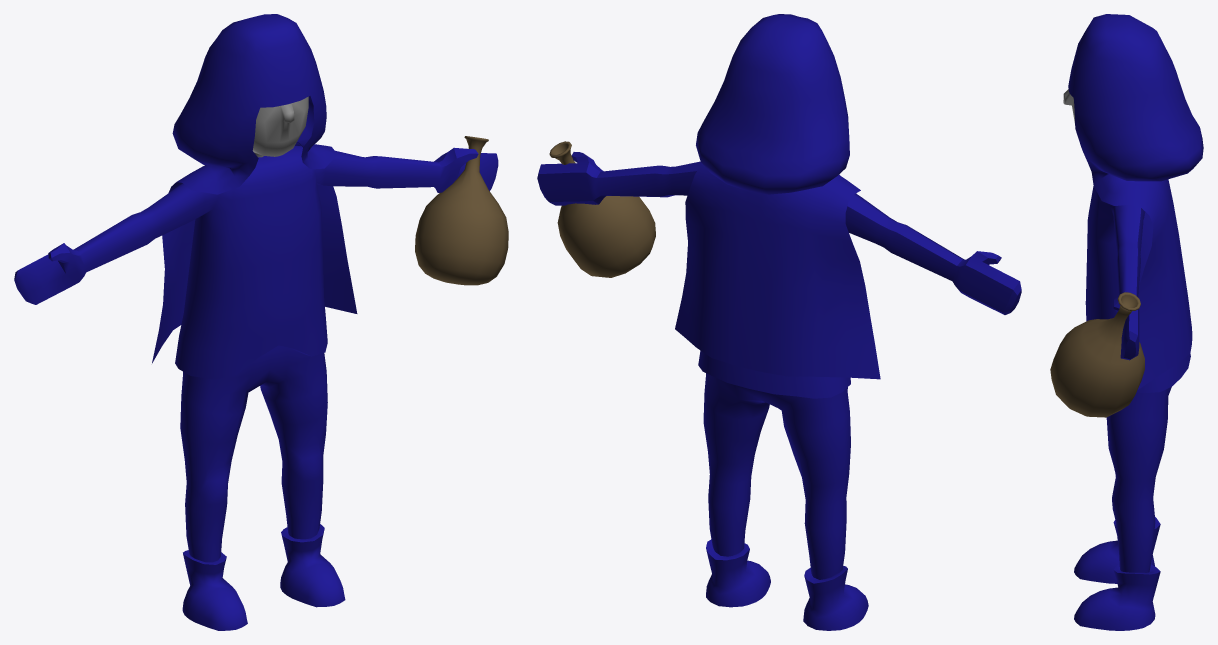
Rendered from thief_notrigged.FBX.
The picture shows the model from 3 angles, left to right: view 1: azimuth 30°, elevation 25°; view 2: azimuth 150°, elevation 25°; view 3: azimuth 270°, elevation 25°; orthographic projection.
Parts seen in each view (by area): view 1: thief; view 2: thief; view 3: thief.
Part boxes in pixels (left/top/right/bottom): thief: left=14, top=14, right=508, bottom=630; thief: left=537, top=14, right=1021, bottom=630; thief: left=1050, top=14, right=1203, bottom=630.
Bounding box in the file's own units: 163 × 45.47 × 188.
